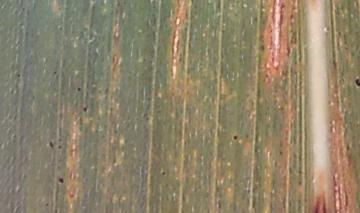tarspot: (353, 76, 360, 86), (56, 177, 66, 184), (81, 106, 88, 113), (57, 25, 64, 32), (51, 69, 57, 77), (49, 139, 54, 148), (44, 201, 50, 208), (232, 134, 238, 140), (76, 86, 82, 92), (15, 73, 21, 79), (160, 170, 166, 176), (56, 145, 62, 150)
